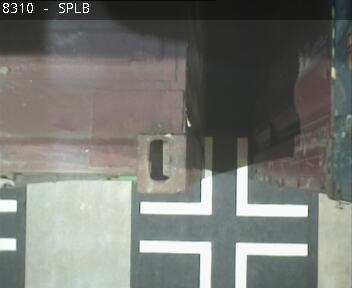groundmarker_1: (138, 139, 308, 216), (139, 239, 308, 288)
